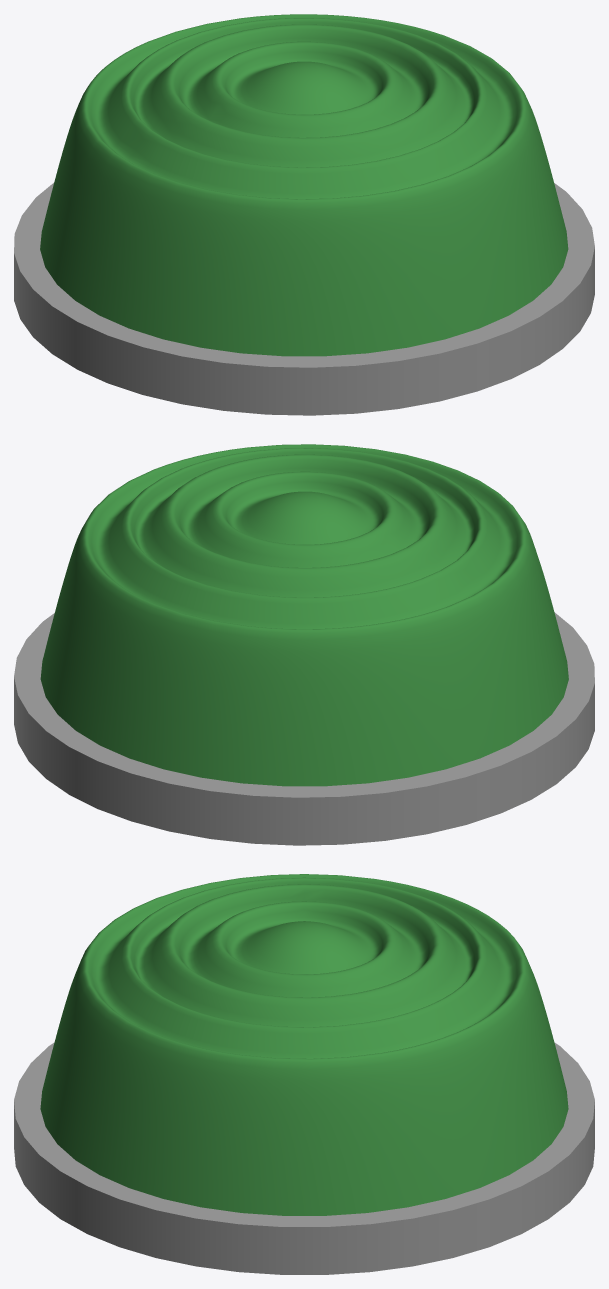
The model's file is Indicator A Bare Green.obj.
The picture shows the model from 3 angles, top to bottom: view 1: azimuth 30°, elevation 25°; view 2: azimuth 150°, elevation 25°; view 3: azimuth 270°, elevation 25°; orthographic projection.
Parts seen in each view (by area): view 1: Body1; view 2: Body1; view 3: Body1.
Part boxes in pixels (left/top/right/bottom): Body1: left=14, top=14, right=594, bottom=415; Body1: left=14, top=444, right=594, bottom=845; Body1: left=14, top=874, right=594, bottom=1274.
Bounding box in the file's own units: 2.2 × 0.9346 × 2.2.
